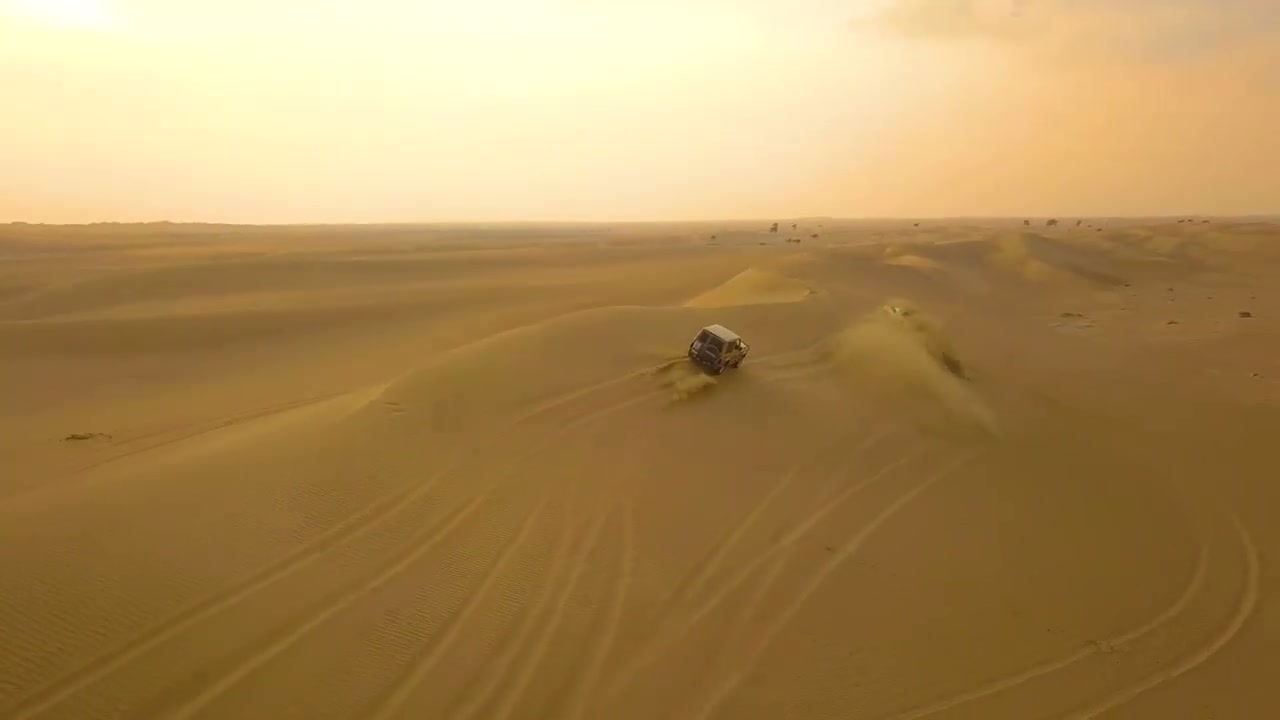vehicle_track: (5, 391, 581, 719), (688, 454, 971, 719), (603, 457, 909, 698), (165, 496, 486, 719), (885, 541, 1209, 719), (1064, 513, 1260, 719), (368, 496, 547, 719), (488, 514, 606, 719), (566, 501, 634, 719), (313, 540, 437, 618)
